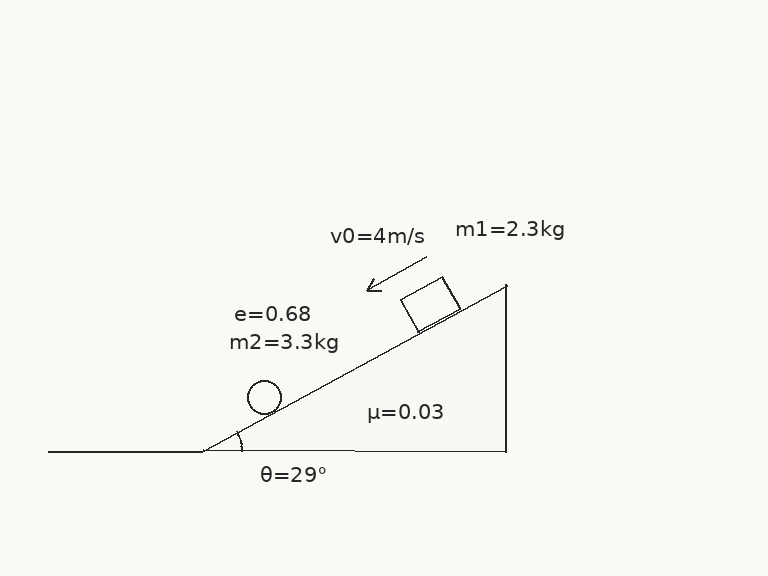ball: (245, 378, 283, 416)
block: (398, 275, 462, 334)
ramp: (200, 281, 507, 453)
